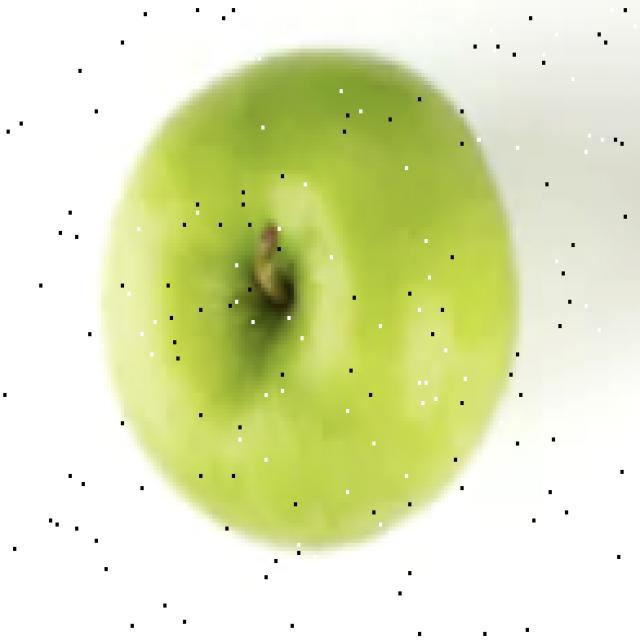Fresh Apple: (142, 55, 502, 537)
